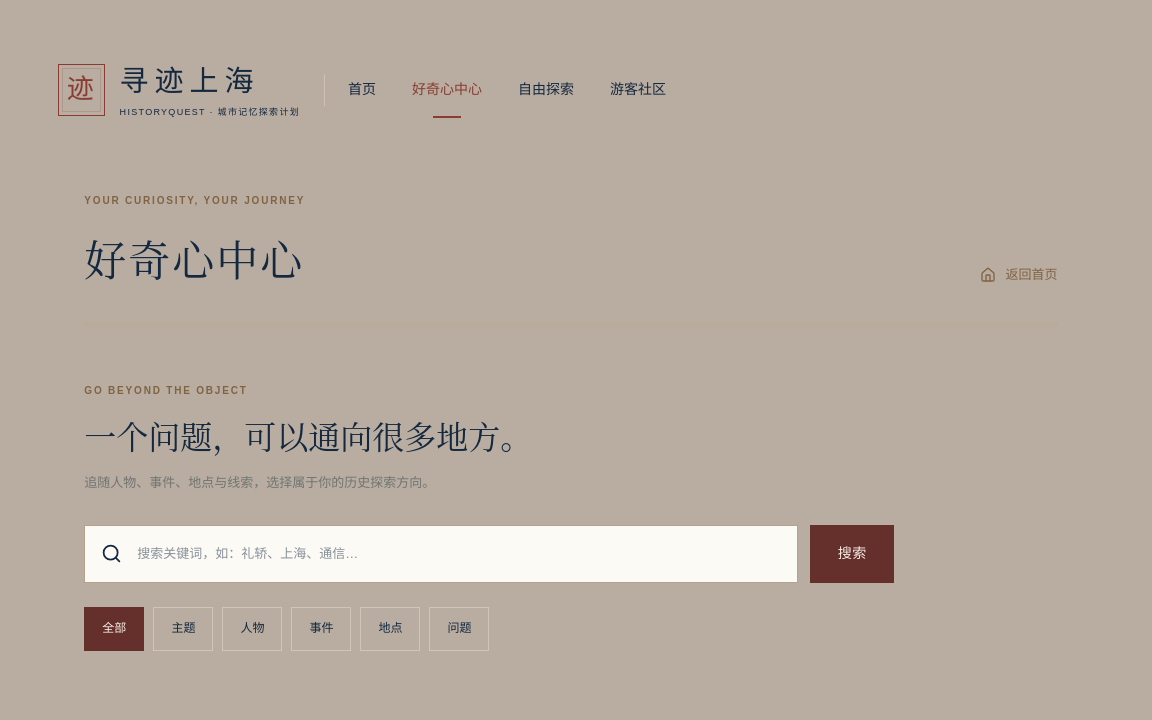
searches knowledge cards and exposes an empty state
Type "不存在的主题" into the field named "搜索历史知识" at coordinates (459, 554), box [137,532,781,576]
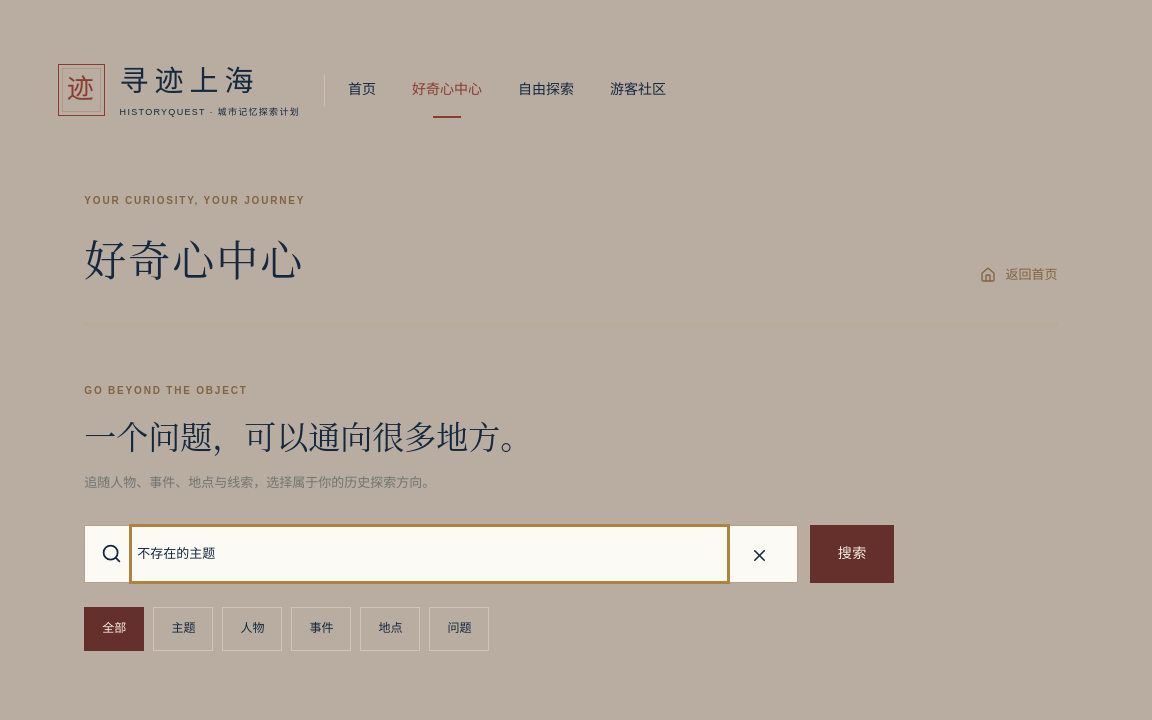
Click the button "搜索" at coordinates (852, 554), box [810,525,894,583]
(page scrolled)
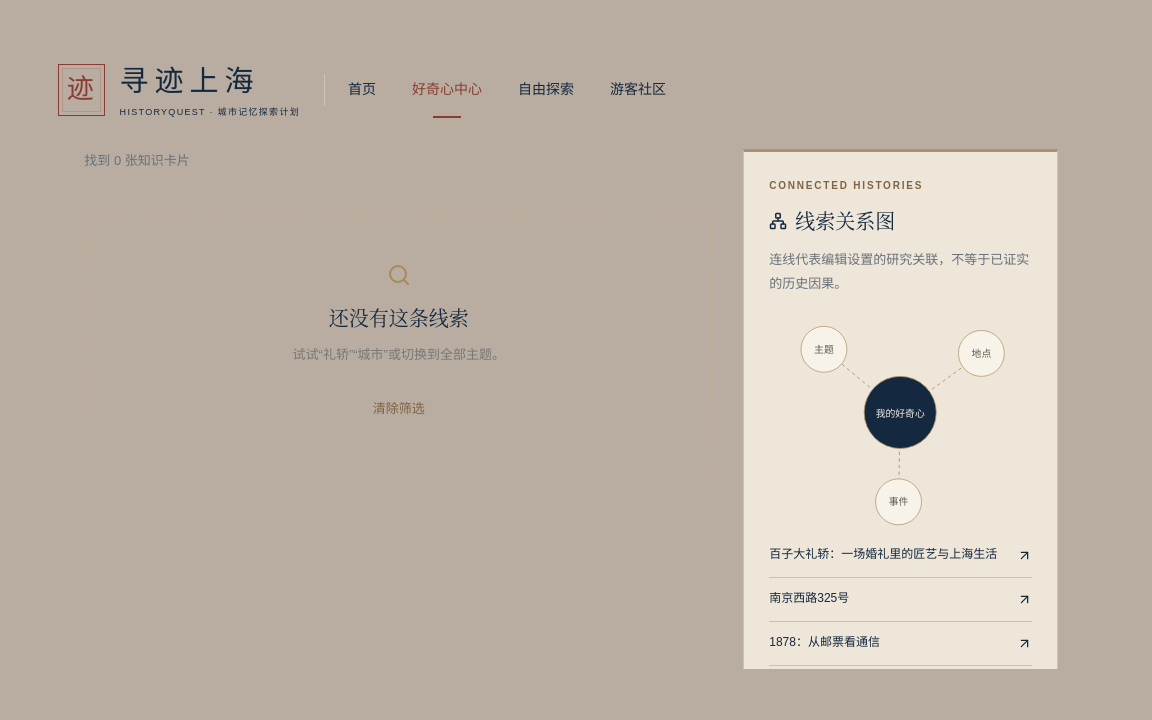
Now the heading "还没有这条线索" is shown, box [329,303,469,332]
Click the button "清除筛选" at coordinates (399, 409), box [373,387,425,431]
(page scrolled)
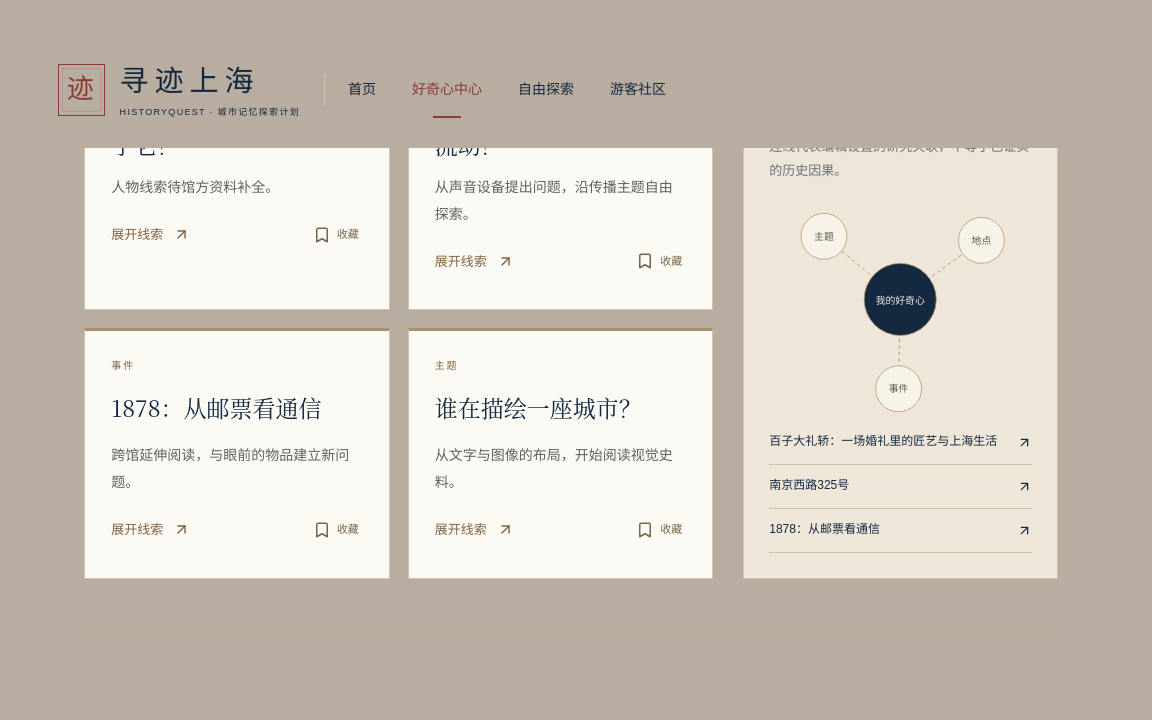
Now the button "1878：从邮票看通信" below "人物线索待馆方资料补全。" is shown, box [111,386,322,430]
